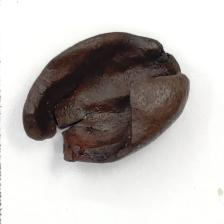NG: (46, 30, 188, 86), (14, 90, 96, 166), (99, 89, 140, 165)
